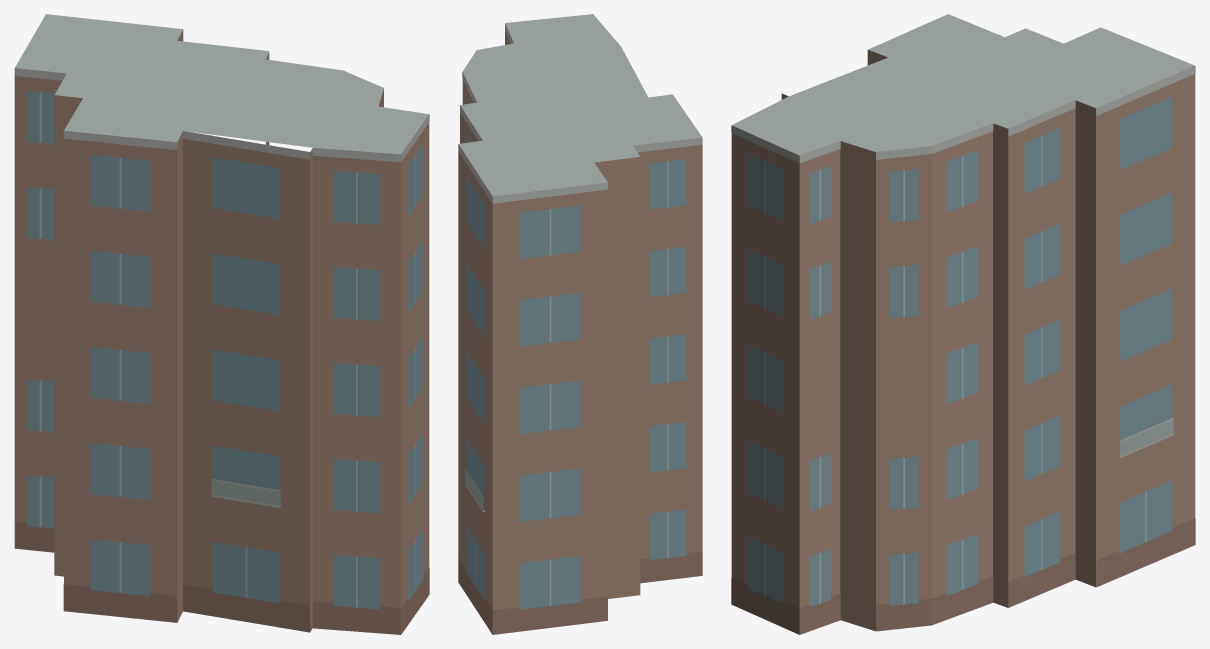
Rendered from survey-upis-32475540.glb.
The picture shows the model from 3 angles, left to right: view 1: azimuth 30°, elevation 25°; view 2: azimuth 150°, elevation 25°; view 3: azimuth 270°, elevation 25°; orthographic projection. The views are drawn at different scales.
Visible parts, largest first — view 1: survey-upis-32475540.tmp; view 2: survey-upis-32475540.tmp; view 3: survey-upis-32475540.tmp.
Part boxes in pixels (box(x1,y1,x2,y2)): survey-upis-32475540.tmp: box(14, 14, 429, 634); survey-upis-32475540.tmp: box(458, 14, 702, 634); survey-upis-32475540.tmp: box(731, 14, 1195, 634).
Bounding box in the file's own units: 9.42 × 14.85 × 13.04.
